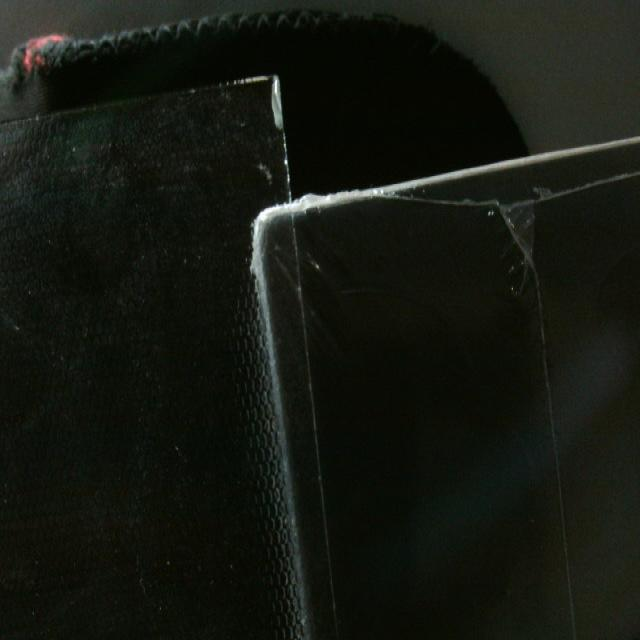edge_chip: (260, 55, 291, 147)
